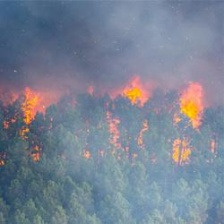fire: (8, 79, 219, 175)
